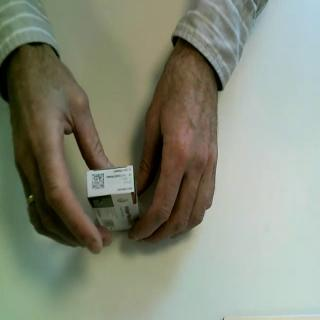nobligan_retard200mg: (86, 164, 142, 236)
